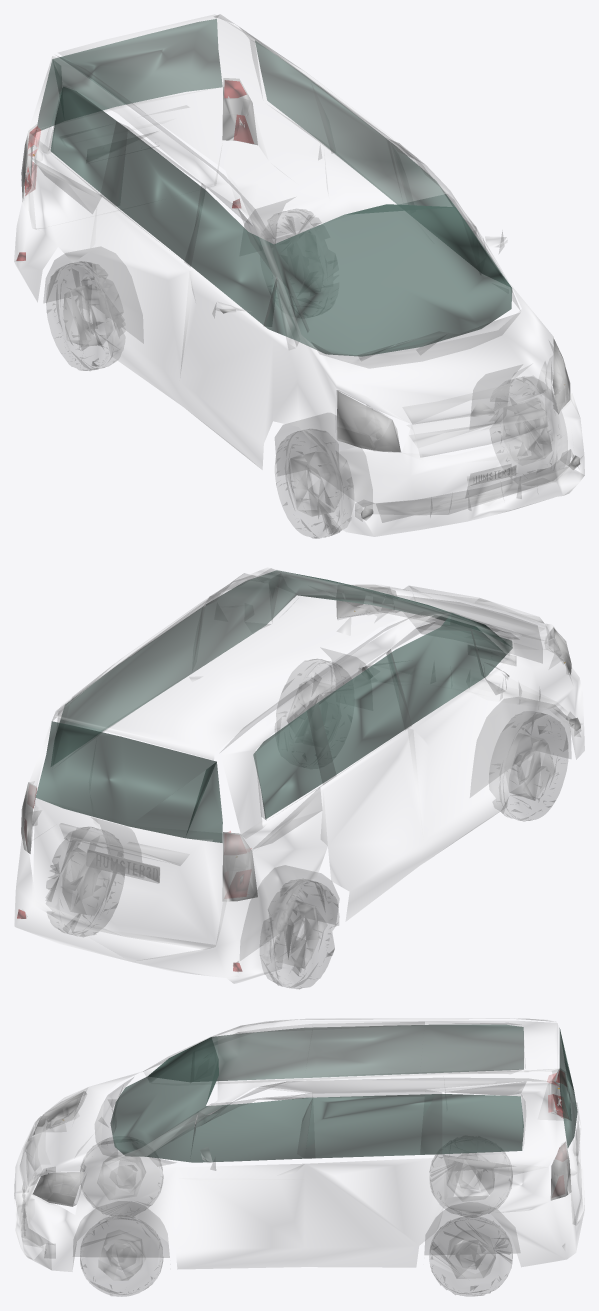
The model's file is noah.glb.
3 views of the same model, one above another, from view 1: azimuth 30°, elevation 25°; view 2: azimuth 150°, elevation 25°; view 3: azimuth 270°, elevation 25° (orthographic). The views are drawn at different scales.
Parts seen in each view (by area): view 1: Object_22, Object_21, Object_10, Object_14, Object_16, Object_19, Object_13, Object_9; view 2: Object_22, Object_21, Object_14, Object_10, Object_13, Object_19, Object_16, Object_5; view 3: Object_22, Object_21, Object_14, Object_10, Object_13, Object_19, Object_16.
Boxes of the visible parts, box(x1,y1,x2,y2) form: Object_22: box(14, 14, 584, 536); Object_21: box(36, 19, 512, 356); Object_10: box(32, 14, 577, 522); Object_14: box(46, 209, 567, 538); Object_16: box(25, 98, 573, 496); Object_19: box(21, 78, 580, 520); Object_13: box(63, 231, 551, 516); Object_9: box(16, 80, 253, 260); Object_22: box(14, 568, 584, 983); Object_21: box(35, 570, 512, 842); Object_14: box(46, 659, 568, 989); Object_10: box(52, 568, 580, 960); Object_13: box(62, 680, 555, 968); Object_19: box(21, 584, 580, 901); Object_16: box(23, 586, 568, 972); Object_5: box(86, 655, 515, 882); Object_22: box(15, 1019, 584, 1271); Object_21: box(110, 1024, 577, 1162); Object_14: box(80, 1137, 512, 1296); Object_10: box(22, 1019, 560, 1257); Object_13: box(98, 1152, 495, 1280); Object_19: box(33, 1068, 571, 1253); Object_16: box(20, 1069, 580, 1269).
Bounding box in the file's own units: 206 × 185 × 455.
